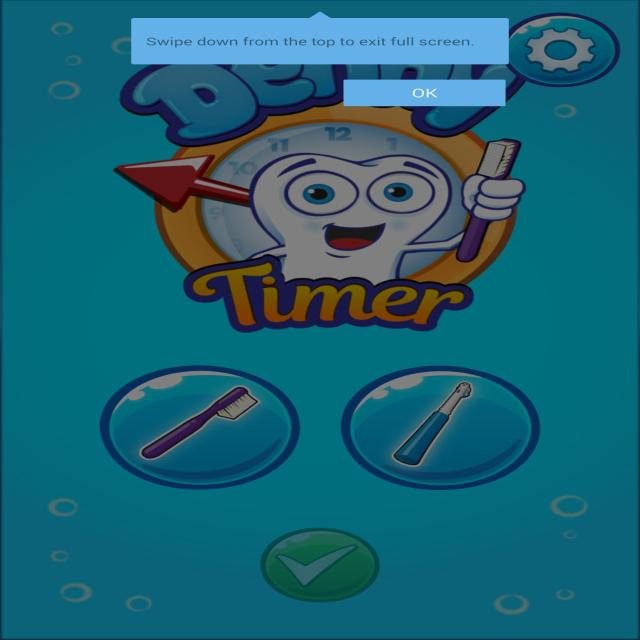button: (346, 80, 504, 107)
image: (2, 0, 640, 640)
label: (404, 85, 445, 101)
text: (142, 36, 482, 49)
